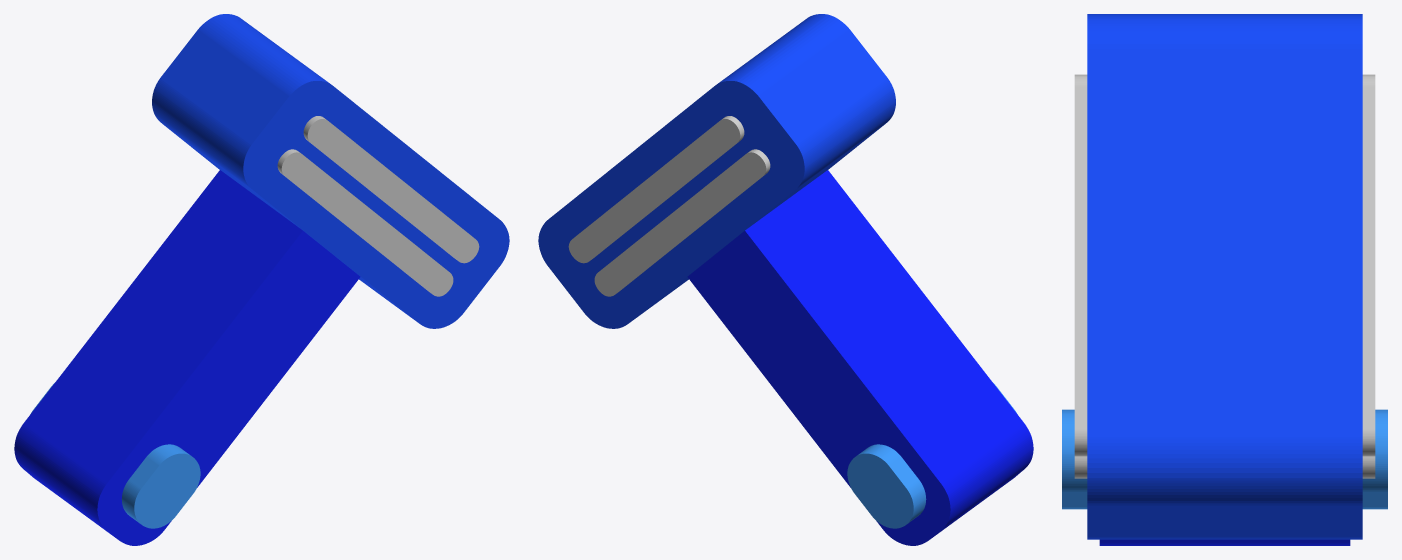
The picture shows the model from 3 angles, left to right: view 1: azimuth 30°, elevation 25°; view 2: azimuth 150°, elevation 25°; view 3: azimuth 270°, elevation 25°; orthographic projection. The views are drawn at different scales.
Parts seen in each view (by area): view 1: U+1FA92_layer00_obj00, U+1FA92_layer01_obj00, U+1FA92_layer02_obj00, U+1FA92_layer03_obj00; view 2: U+1FA92_layer00_obj00, U+1FA92_layer01_obj00, U+1FA92_layer02_obj00, U+1FA92_layer03_obj00; view 3: U+1FA92_layer01_obj00, U+1FA92_layer02_obj00, U+1FA92_layer03_obj00, U+1FA92_layer00_obj00.
Part boxes in pixels (x1,y1,x2,y2): U+1FA92_layer00_obj00: (14,170,360,545); U+1FA92_layer01_obj00: (152,14,509,328); U+1FA92_layer02_obj00: (277,116,479,296); U+1FA92_layer03_obj00: (31,383,200,528); U+1FA92_layer00_obj00: (687,170,1033,545); U+1FA92_layer01_obj00: (538,14,895,328); U+1FA92_layer02_obj00: (568,116,770,296); U+1FA92_layer03_obj00: (847,383,1016,528); U+1FA92_layer01_obj00: (1087,14,1362,539); U+1FA92_layer02_obj00: (1074,74,1375,478); U+1FA92_layer03_obj00: (1062,409,1387,509); U+1FA92_layer00_obj00: (1099,539,1350,545).
Bounding box in the file's own units: 0.5673 × 0.5666 × 0.26.
